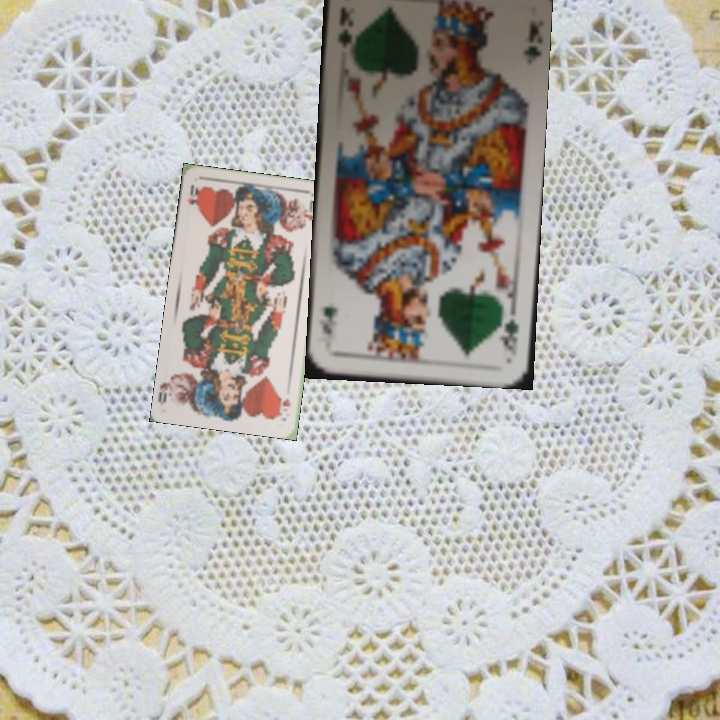GK: (499, 303, 522, 359), (333, 4, 356, 51)
HO: (182, 180, 203, 212), (275, 394, 293, 419)
